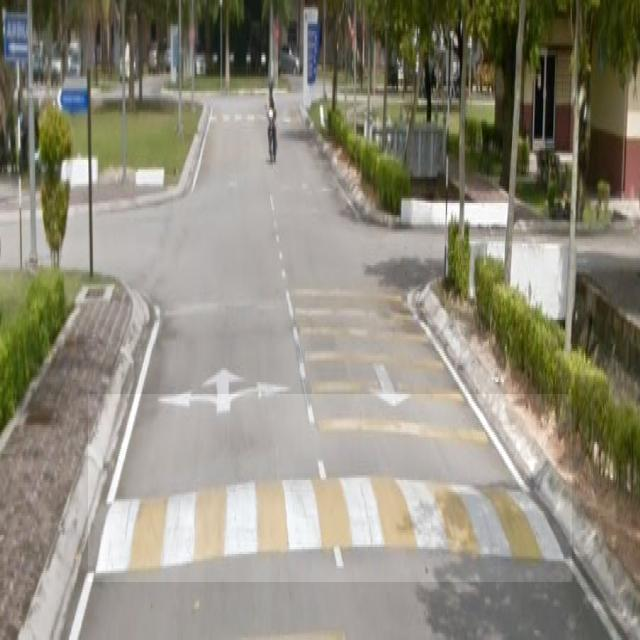speed-bump: (88, 394, 572, 582)
